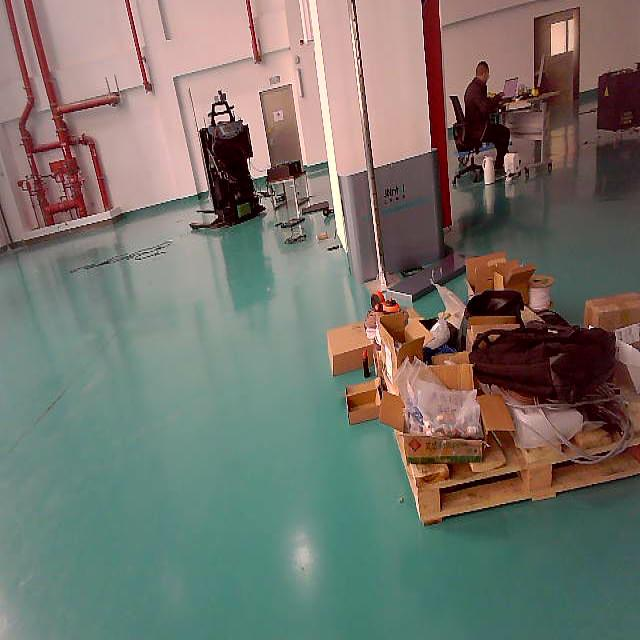euro: (393, 449, 640, 517)
